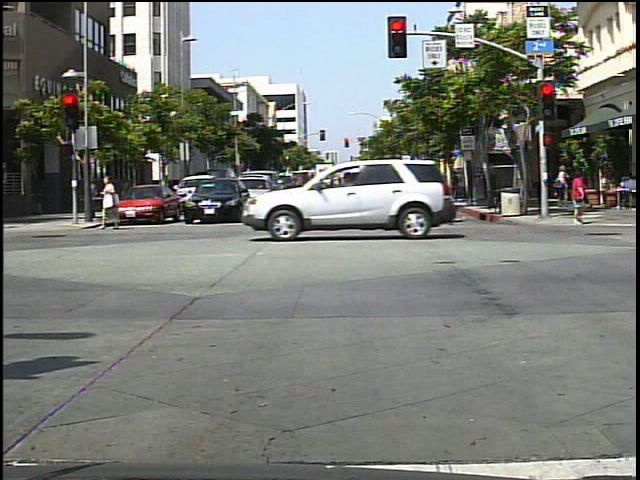person: (561, 170, 595, 231), (96, 172, 127, 236), (551, 160, 570, 211)
